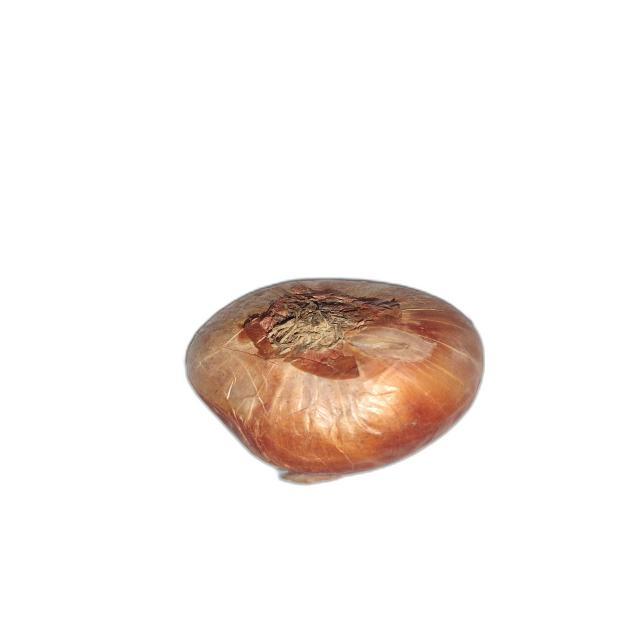onion: (185, 279, 486, 484)
